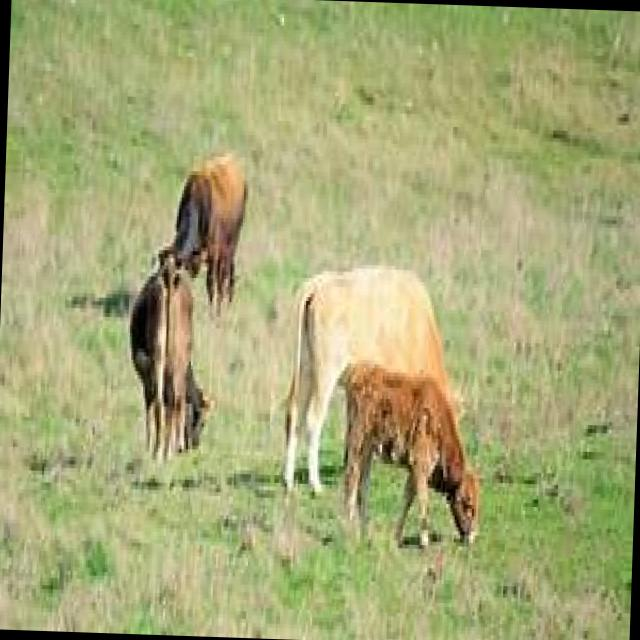animal: (280, 258, 454, 500), (330, 358, 482, 550), (122, 256, 218, 464), (156, 147, 249, 317)
